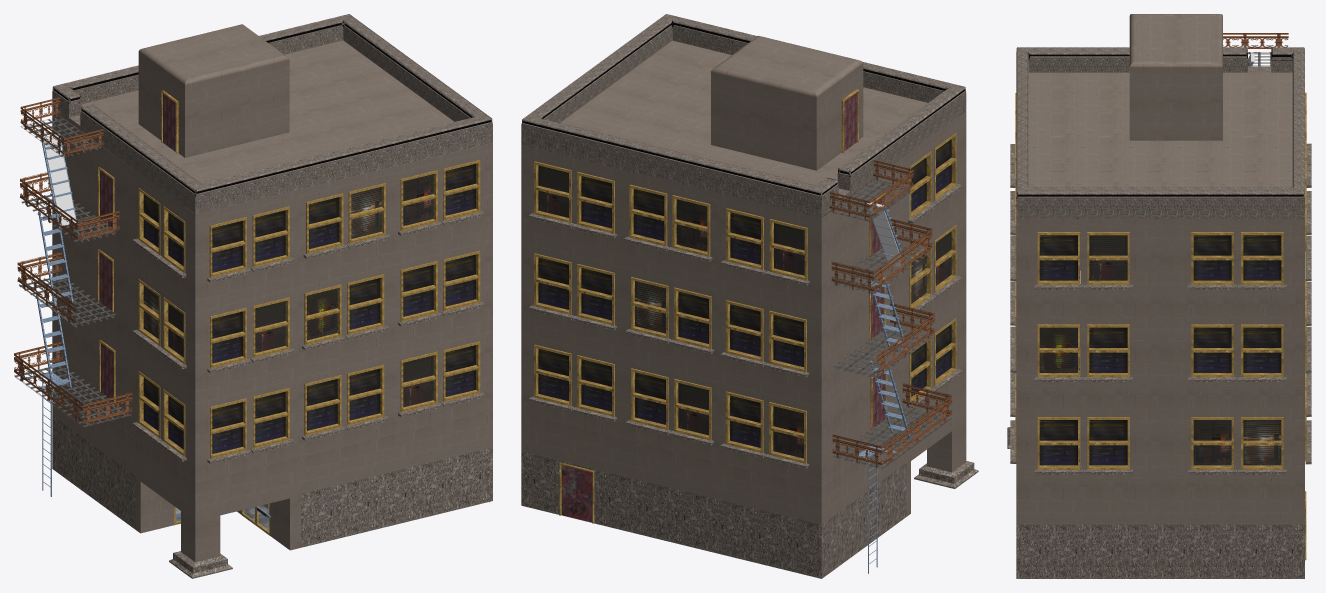
File: City_Midsize_Building_1.glb
3 renders of one model, left to right at view 1: azimuth 30°, elevation 25°; view 2: azimuth 150°, elevation 25°; view 3: azimuth 270°, elevation 25°, orthographic.
Visible parts, largest first — view 1: Building_Frame, Windows, Fire_Escape, Fire_Escape_Stairs.005, Fire_Escape_Stairs.001, Cube.016, Fire_Escape_Door.002, Fire_Escape_Door, Fire_Escape_Door.003, Fire_Escape_Door.001; view 2: Building_Frame, Windows, Fire_Escape, Back_Door, Cube.016, Fire_Escape_Stairs.005, Fire_Escape_Stairs.001, Fire_Escape_Door; view 3: Building_Frame, Windows, Fire_Escape.
Part boxes in pixels (x1,y1,x2,y2): Building_Frame: [52, 14, 492, 578]; Windows: [132, 160, 485, 463]; Fire_Escape: [14, 97, 132, 426]; Fire_Escape_Stairs.005: [36, 133, 76, 392]; Fire_Escape_Stairs.001: [43, 134, 76, 225]; Cube.016: [40, 143, 75, 384]; Fire_Escape_Door.002: [99, 252, 112, 310]; Fire_Escape_Door: [163, 94, 175, 151]; Fire_Escape_Door.003: [101, 343, 113, 401]; Fire_Escape_Door.001: [100, 170, 112, 228]; Building_Frame: [521, 14, 978, 578]; Windows: [528, 133, 962, 468]; Fire_Escape: [829, 160, 951, 469]; Back_Door: [561, 465, 592, 522]; Cube.016: [870, 209, 905, 431]; Fire_Escape_Stairs.005: [866, 202, 910, 437]; Fire_Escape_Stairs.001: [867, 202, 902, 267]; Fire_Escape_Door: [844, 93, 857, 150]; Building_Frame: [1007, 14, 1304, 578]; Windows: [1010, 92, 1311, 474]; Fire_Escape: [1223, 33, 1288, 66].
Size of the model in its own units: 14.21 by 16.99 by 10.55.
Materials: 97 (90 with a texture image).
